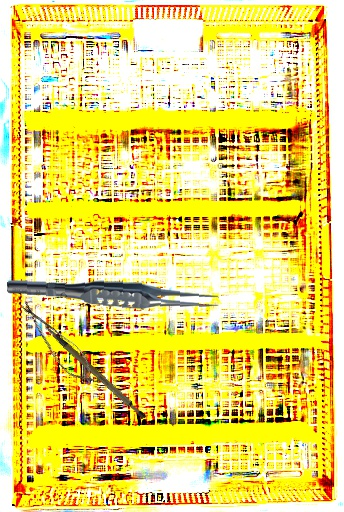Micro Scissor: (11, 294, 104, 393)
Scalpel Handle: (43, 310, 148, 431)
Tissue Forceps: (6, 274, 220, 314)
